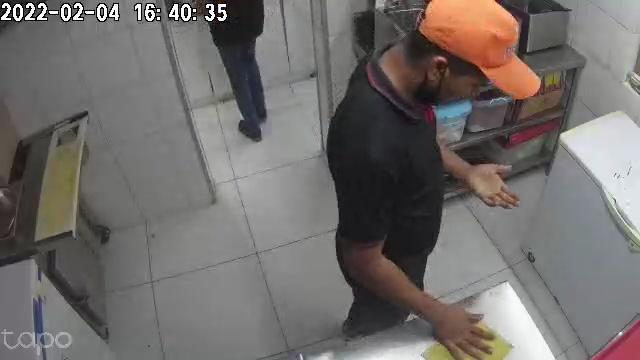no_gloves: (460, 163, 519, 210)
